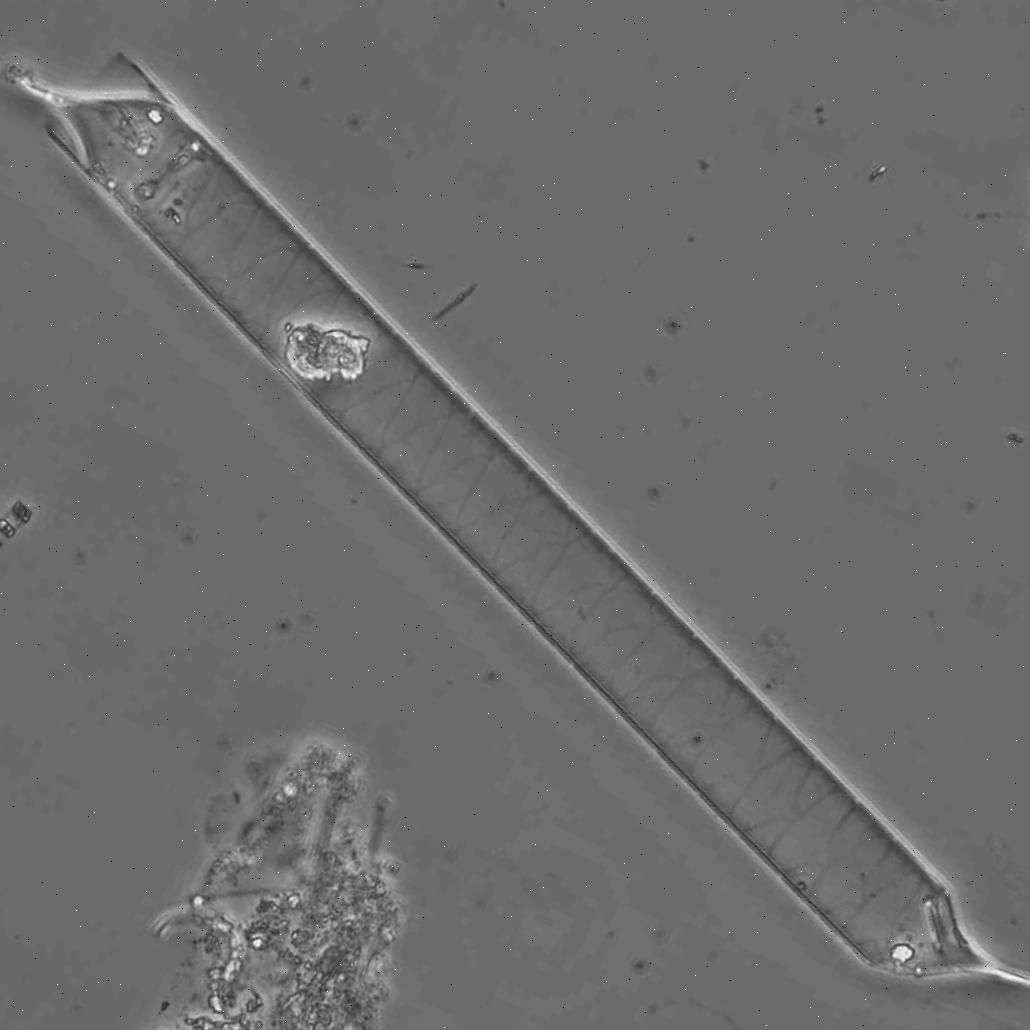proboscia_alata: (3, 53, 1030, 987)
